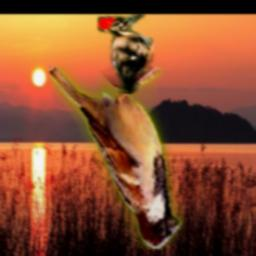Sparrow: (49, 67, 182, 249)
Woodpecker: (98, 14, 156, 94)
